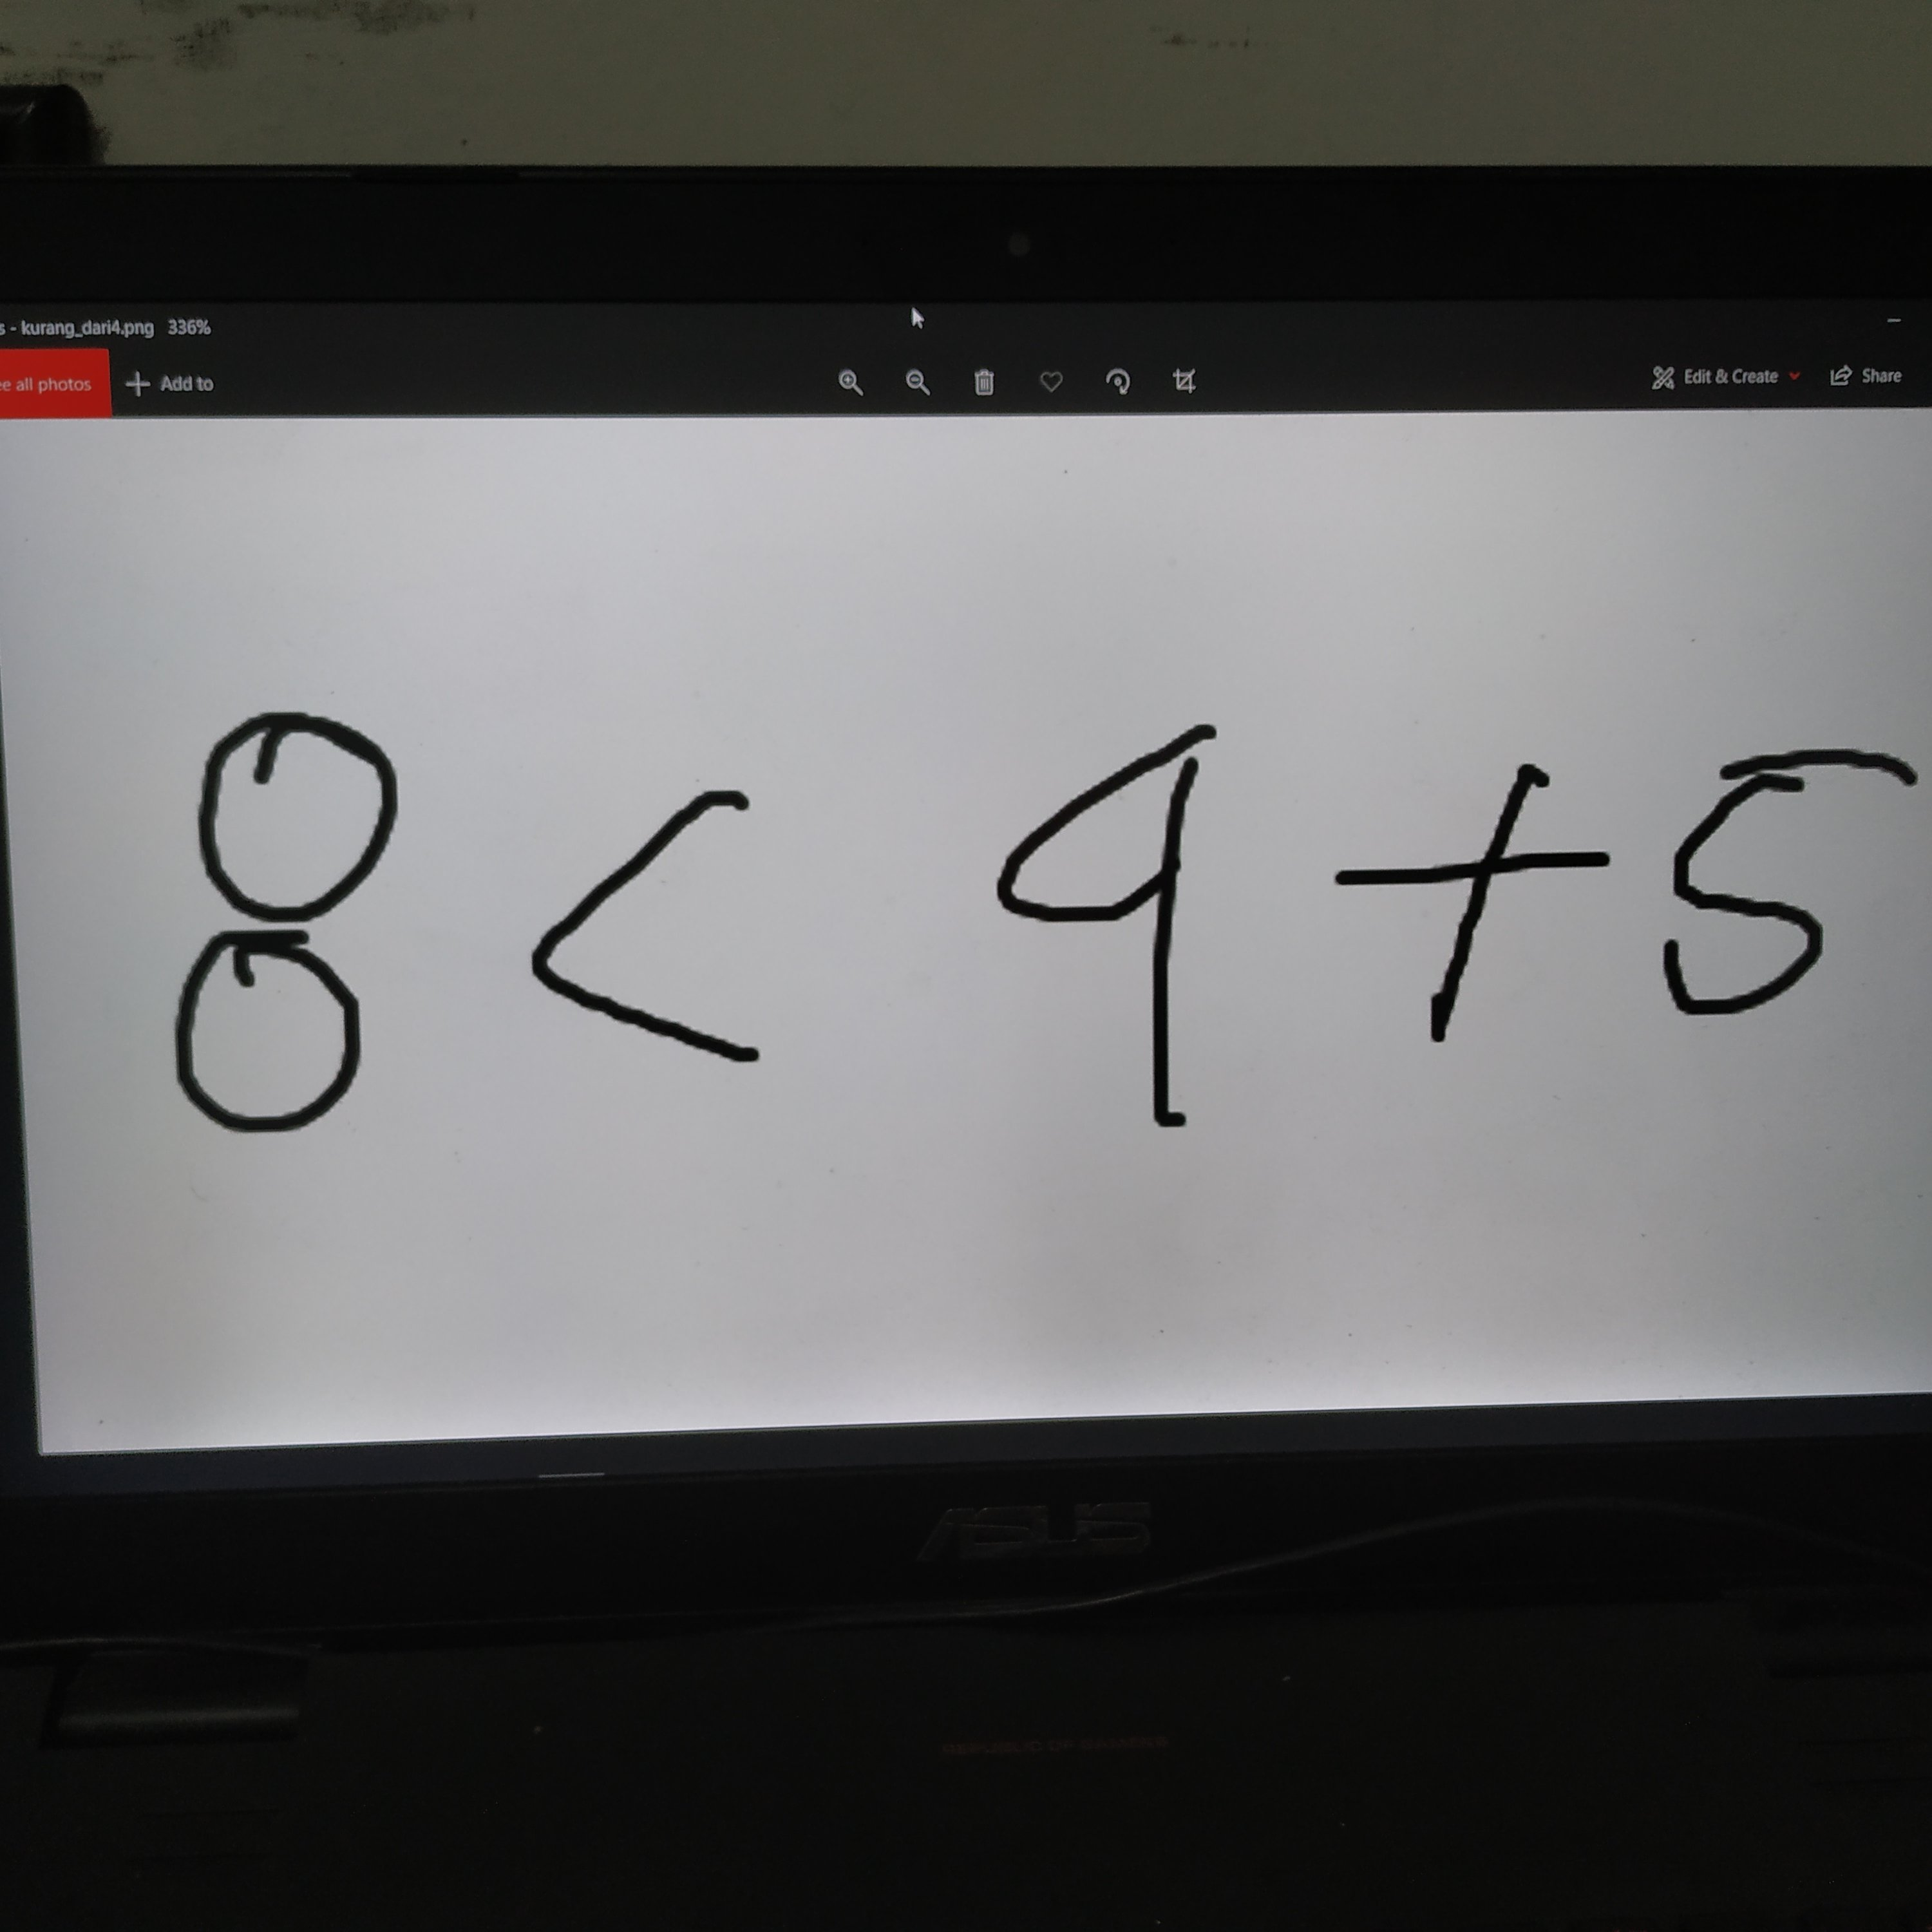lessthan: (497, 751, 828, 1108)
num4: (984, 698, 1236, 1174)
num5: (1652, 741, 1932, 1049)
num8: (133, 696, 451, 1157)
sum: (1332, 745, 1634, 1059)
